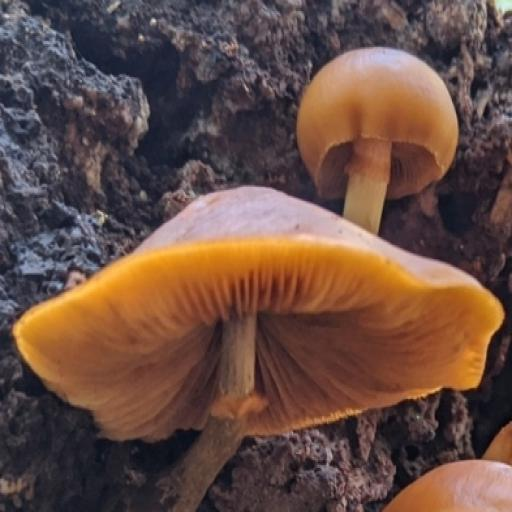mushroom: (19, 186, 492, 434), (295, 30, 467, 216)
